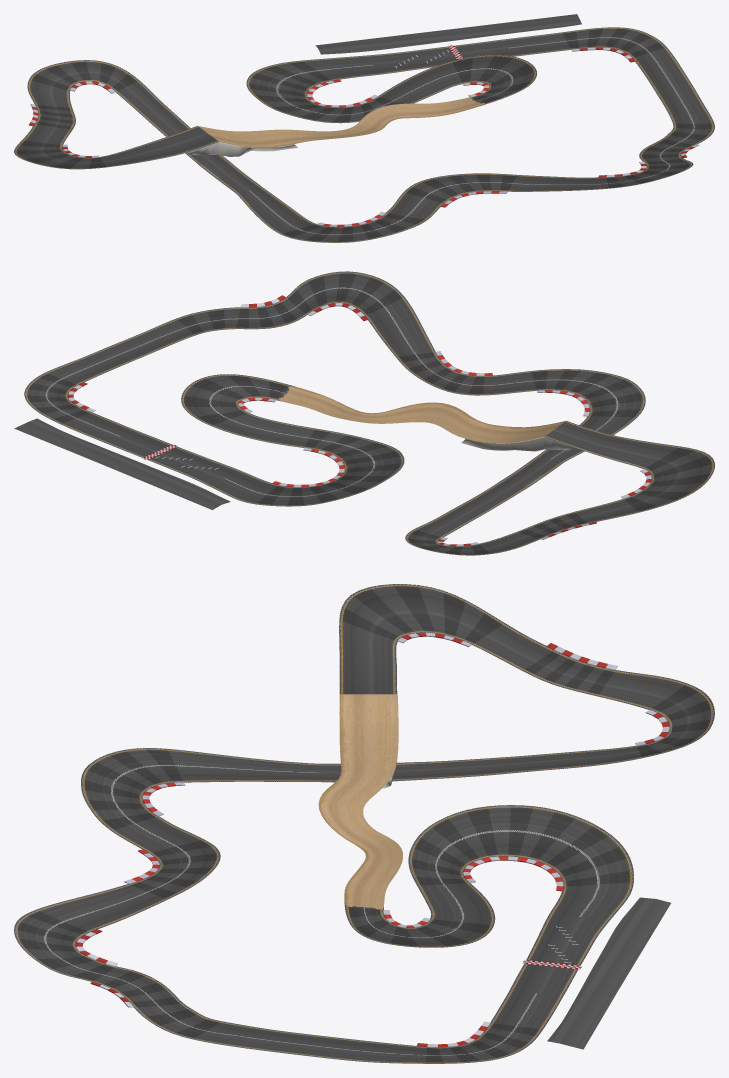
The model's file is ds_mario_circuit_road.glb.
3 renders of one model, top to bottom at view 1: azimuth 30°, elevation 25°; view 2: azimuth 150°, elevation 25°; view 3: azimuth 270°, elevation 25°, orthographic. The views are drawn at different scales.
Parts seen in each view (by area): view 1: Object_164, Object_171, Object_120, Object_163; view 2: Object_164, Object_171, Object_120, Object_163; view 3: Object_164, Object_171, Object_120.
Boxes of the visible parts, x1,y1,x2,y2 form: Object_164: (14,14,714,242); Object_171: (198,97,484,148); Object_120: (29,47,699,226); Object_163: (185,142,297,156); Object_164: (14,271,714,555); Object_171: (278,386,565,443); Object_120: (68,295,651,546); Object_163: (461,437,574,451); Object_164: (14,584,714,1063); Object_171: (318,694,402,909); Object_120: (75,632,669,1047).
Bounding box in the file's own units: 546 × 44.39 × 388.
6 materials, 6 textured.
